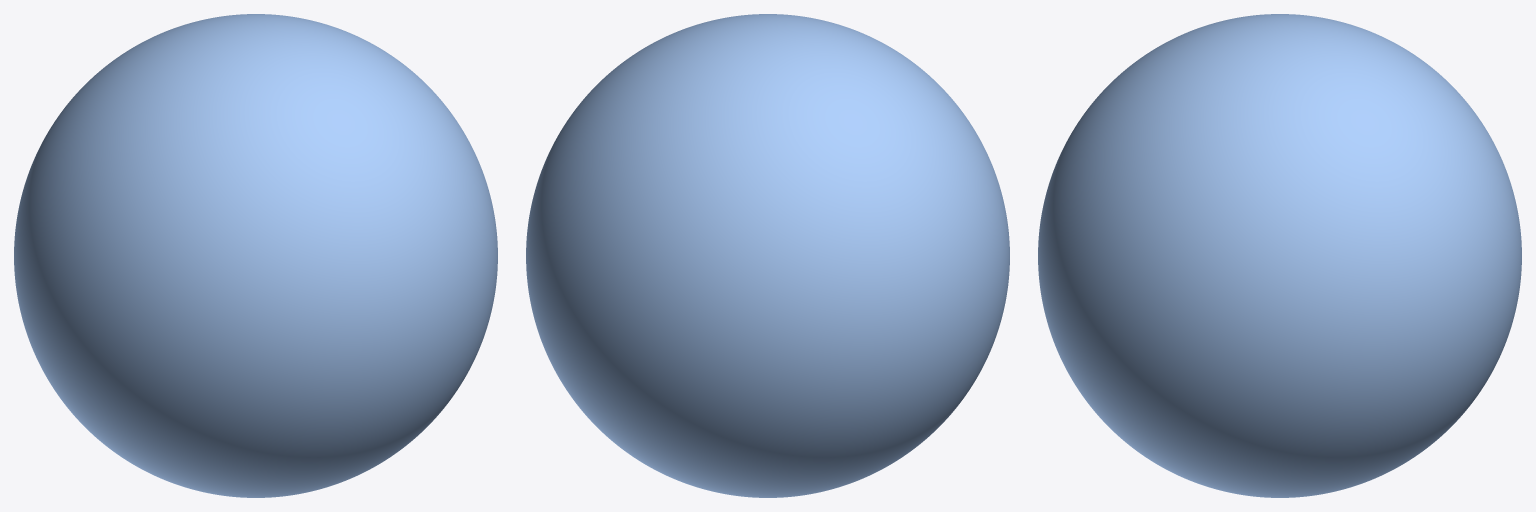
3 renders of one model, left to right at view 1: azimuth 30°, elevation 25°; view 2: azimuth 150°, elevation 25°; view 3: azimuth 270°, elevation 25°, orthographic.
Parts seen in each view (by area): view 1: TestSphere; view 2: TestSphere; view 3: TestSphere.
Part boxes in pixels (bbox=[...]): TestSphere: bbox=[14, 14, 497, 497]; TestSphere: bbox=[526, 14, 1009, 497]; TestSphere: bbox=[1038, 14, 1521, 497].
Bounding box in the file's own units: 0.9999 × 1 × 0.9999.
